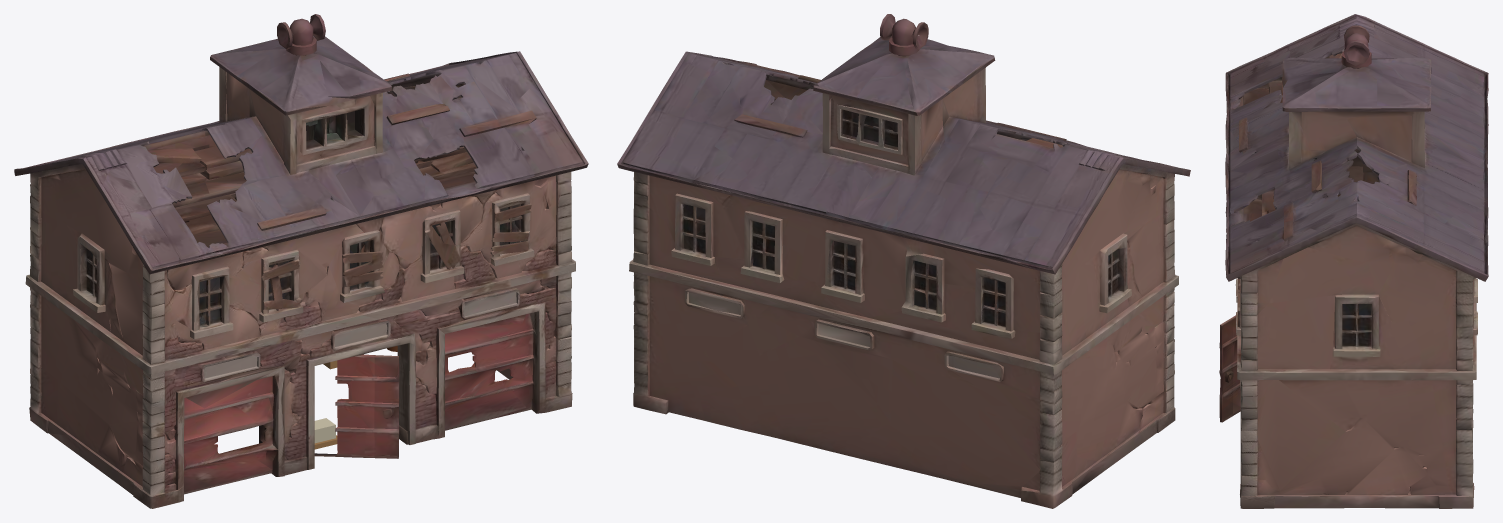
The model's file is house_garage_b.glb.
The picture shows the model from 3 angles, left to right: view 1: azimuth 30°, elevation 25°; view 2: azimuth 150°, elevation 25°; view 3: azimuth 270°, elevation 25°; orthographic projection. The views are drawn at different scales.
Parts seen in each view (by area): view 1: body, door_r, door_l, door_m; view 2: body; view 3: body, door_m.
Part boxes in pixels (box(x1,y1,x2,y2)): body: box(14, 14, 588, 508); door_r: box(444, 315, 524, 435); door_l: box(184, 376, 270, 493); door_m: box(316, 347, 387, 457); body: box(617, 14, 1190, 508); body: box(1219, 14, 1488, 508); door_m: box(1233, 315, 1240, 415).
Size of the model in its own units: 12 by 10.34 by 6.68.
20 materials, 3 textured.
